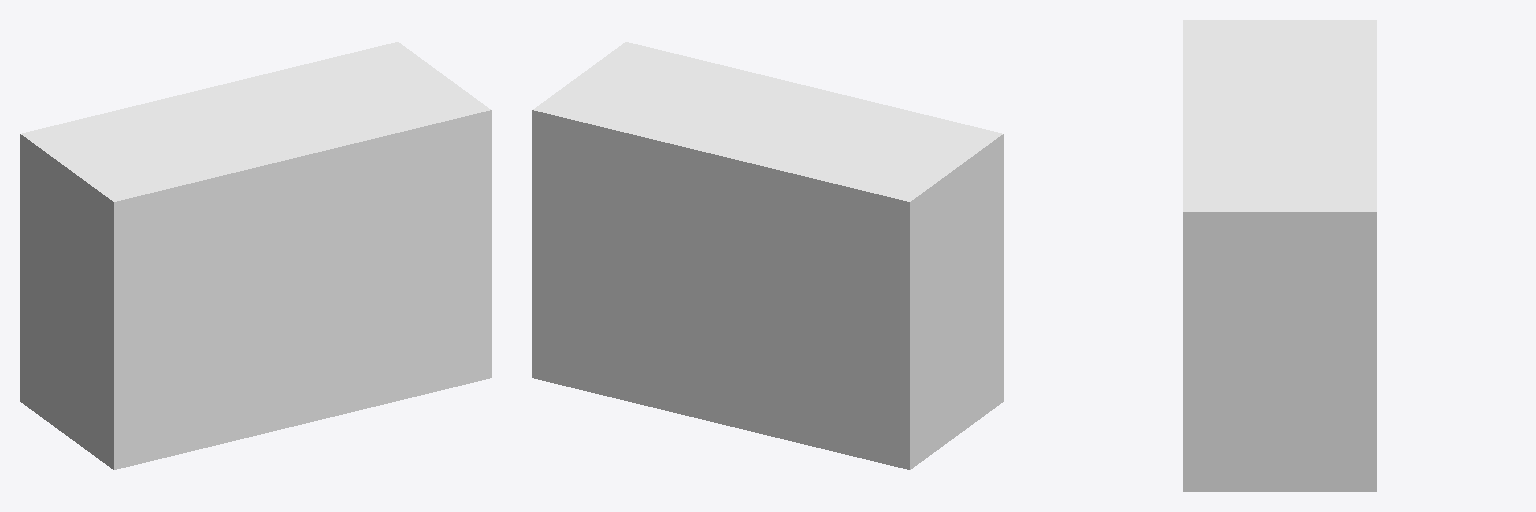
URDF robot description (box.urdf):
<?xml version="0.0" ?>
<robot name="box.urdf">
  <link name="baseLink">
    <contact>
      <lateral_friction value="0.8"/>
      <rolling_friction value="0.0"/>
      <contact_cfm value="0.0"/>
      <contact_erp value="1.0"/>
    </contact>
    <inertial>
      <origin rpy="0 0 0" xyz="0 0 0"/>
       <mass value=".01"/>
       <inertia ixx="1" ixy="0" ixz="0" iyy="1" iyz="0" izz="1"/>
    </inertial>
    <visual>
      <origin rpy="0 0 0" xyz="0 0 0"/>
      <geometry>
				<mesh filename="box.obj" scale="0.140 0.06 0.095"/>
      </geometry>
       <material name="white">
        <color rgba="1 1 1 1"/>
      </material>
    </visual>
    <collision>
      <origin rpy="0 0 0" xyz="0 0 0"/>
      <geometry>
	 	<box size="0.140 0.06 0.095"/>
      </geometry>
    </collision>
  </link>
</robot>

--- Facts derived from the render (not from the file) ---
Views: 3 orthographic renders of the robot side by side, from view 1: azimuth 30°, elevation 25°; view 2: azimuth 150°, elevation 25°; view 3: azimuth 270°, elevation 25°.
Robot: box.urdf — 1 links, 0 joints (none); root link baseLink; default pose: every joint at zero.
Visible links, largest first — view 1: baseLink; view 2: baseLink; view 3: baseLink.
Link boxes in pixels (x1,y1,x2,y2): baseLink: (20, 42, 491, 469); baseLink: (532, 42, 1003, 469); baseLink: (1183, 20, 1376, 491).
Size in the robot's own frame: 0.14 by 0.06 by 0.095 metres.
1 mesh visuals loaded from 1 distinct referenced files (1 OBJ).